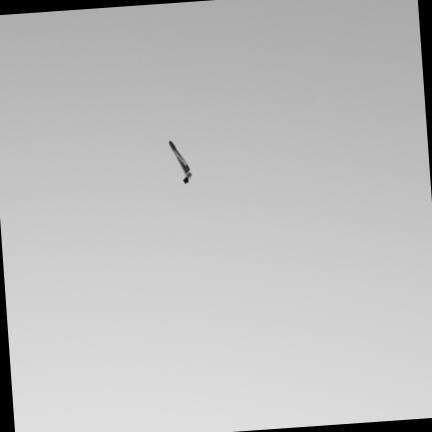Shahed: (169, 140, 191, 182)
